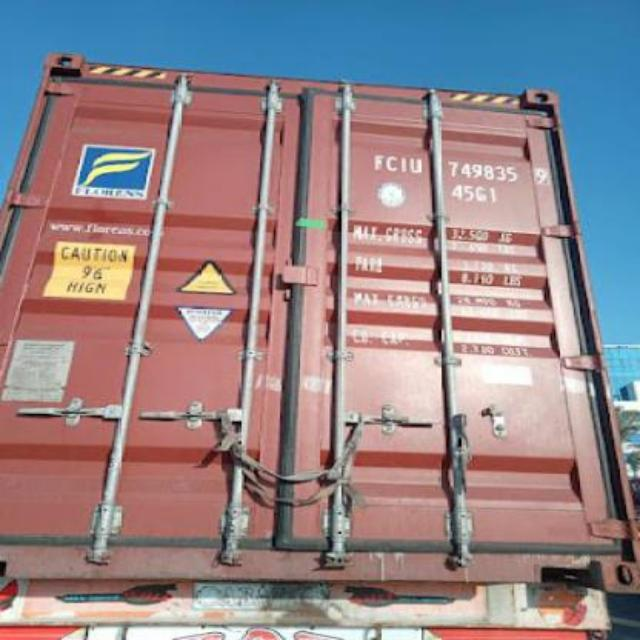3: (492, 159, 506, 183)
5: (506, 160, 520, 188)
7: (446, 154, 459, 180)
8: (482, 159, 494, 183)
9: (530, 163, 550, 187), (460, 156, 472, 182), (472, 155, 482, 181)
C: (386, 152, 399, 174)
F: (372, 150, 386, 172)
I: (398, 151, 408, 175)
U: (410, 148, 422, 176)
